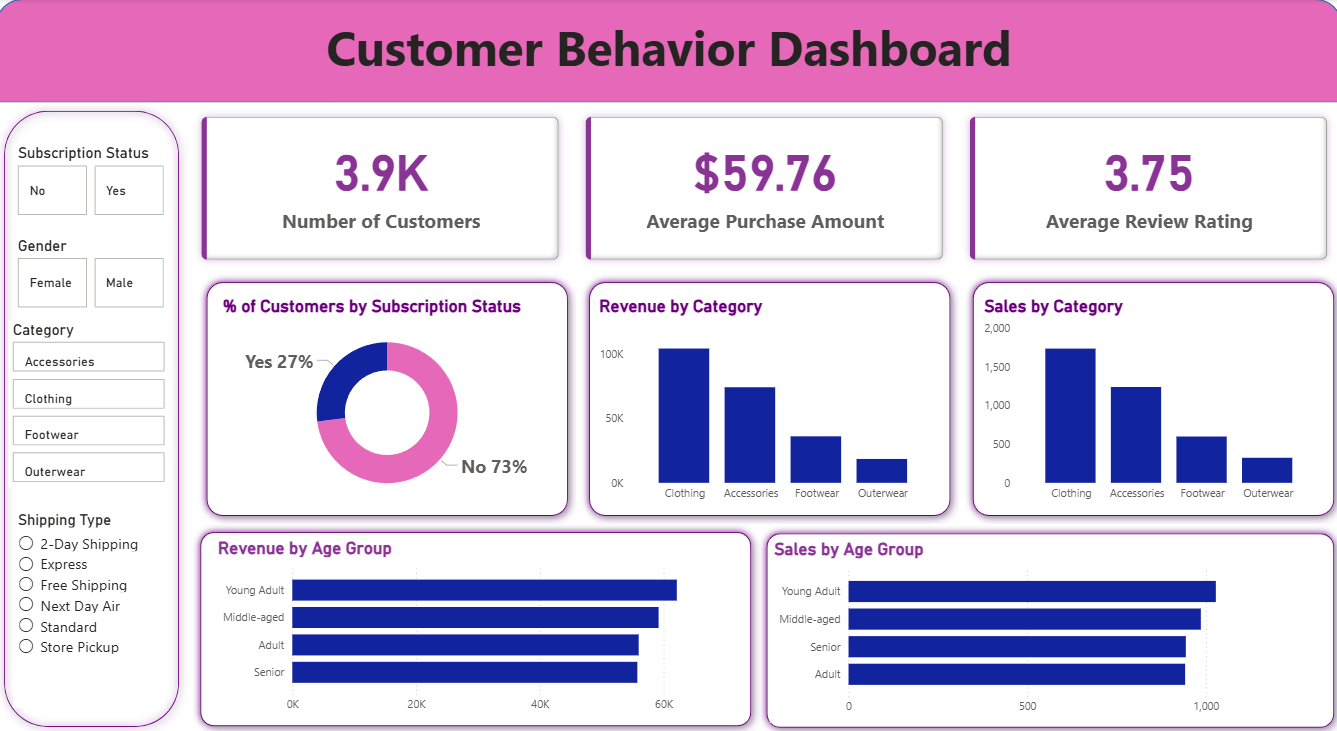

What the dashboard file says about the page in this screenshot:
{"tool":"powerbi","page":{"name":"Page 1","canvas":[1500,820],"ordinal":0},"visuals":[{"type":"cardVisual","fields":{"Data":["public customer.Number of Customers","public customer.Average Purchase Amount","public customer.Average Review Rating"]},"box":[212.9,115.3,1286.5,191.6],"z":2000},{"type":"shape","box":[218.3,585.6,631.7,234.2],"z":2500,"group":"g1"},{"type":"shape","box":[0,0,1499.4,115.3],"z":3000},{"type":"textbox","box":[0,12.4,1499.4,102.9],"z":4000},{"type":"shape","box":[225.4,307,420.5,278.6],"z":5000},{"type":"donutChart","title":"% of Customers by Subscription Status","fields":{"Category":["public customer.subscription_status"],"Y":["CountNonNull(public customer.customer_id)"]},"box":[248.4,331.8,376.2,237.8],"z":6000},{"type":"shape","box":[1078.9,307,420.5,278.6],"z":7000},{"type":"shape","box":[652.1,307,420.5,278.6],"z":8000},{"type":"clusteredColumnChart","title":"Revenue by Category","fields":{"Y":["Sum(public customer.purchase_amount)"],"Category":["public customer.category"]},"box":[667.2,331.8,385.1,237.8],"z":9000},{"type":"clusteredColumnChart","title":"Sales by Category","fields":{"Y":["CountNonNull(public customer.customer_id)"],"Category":["public customer.category"]},"box":[1096.6,331.8,385.1,237.8],"z":10000},{"type":"shape","box":[0,115.3,212.9,704.5],"z":11000},{"type":"advancedSlicerVisual","fields":{"Values":["public customer.subscription_status"]},"box":[19.5,161.5,173.9,85.2],"z":12000},{"type":"advancedSlicerVisual","fields":{"Values":["public customer.gender"]},"box":[19.5,264.4,173.9,85.2],"z":13000},{"type":"advancedSlicerVisual","fields":{"Values":["public customer.category"]},"box":[14.2,358.4,179.2,186.3],"z":14000},{"type":"listSlicer","fields":{"Values":["public customer.shipping_type"]},"box":[19.5,569.6,168.6,220],"z":15000},{"type":"shape","box":[849.7,585.7,650.3,234.6],"z":16000},{"type":"clusteredBarChart","title":"Sales by Age Group","fields":{"Y":["CountNonNull(public customer.customer_id)"],"Category":["public customer.age_group"]},"box":[862.4,601.1,585.7,205.1],"z":17000},{"type":"clusteredBarChart","title":"Revenue by Age Group","fields":{"Y":["Sum(public customer.purchase_amount)"],"Category":["public customer.age_group"]},"box":[241.4,601.6,585.6,204.1],"z":17500,"group":"g1"},{"type":"group","id":"g1","title":"Group 1","box":[218.3,585.6,631.7,234.2],"z":17501}]}

Visuals, with their boxes in screenshot pixels (x1, y1, x2, y2), scaled from the page's 1500x820 canvas onto the 1337x731 screenshot:
cardVisual - public customer.Number of Customers x public customer.Average Purchase Amount: <bbox>190, 103, 1336, 274</bbox>
shape: <bbox>195, 522, 758, 730</bbox>
shape: <bbox>0, 0, 1336, 103</bbox>
textbox: <bbox>0, 11, 1336, 103</bbox>
shape: <bbox>201, 274, 576, 522</bbox>
"% of Customers by Subscription Status" donutChart: <bbox>221, 296, 557, 508</bbox>
shape: <bbox>962, 274, 1336, 522</bbox>
shape: <bbox>581, 274, 956, 522</bbox>
"Revenue by Category" clusteredColumnChart: <bbox>595, 296, 938, 508</bbox>
"Sales by Category" clusteredColumnChart: <bbox>977, 296, 1321, 508</bbox>
shape: <bbox>0, 103, 190, 730</bbox>
advancedSlicerVisual - public customer.subscription_status: <bbox>17, 144, 172, 220</bbox>
advancedSlicerVisual - public customer.gender: <bbox>17, 236, 172, 312</bbox>
advancedSlicerVisual - public customer.category: <bbox>13, 320, 172, 486</bbox>
listSlicer - public customer.shipping_type: <bbox>17, 508, 168, 704</bbox>
shape: <bbox>757, 522, 1336, 730</bbox>
"Sales by Age Group" clusteredBarChart: <bbox>769, 536, 1291, 719</bbox>
"Revenue by Age Group" clusteredBarChart: <bbox>215, 536, 737, 718</bbox>
"Group 1" group: <bbox>195, 522, 758, 730</bbox>
